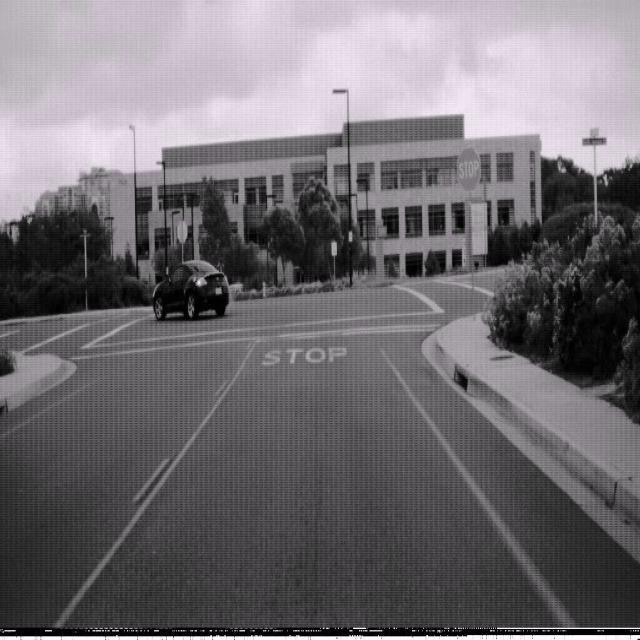stop_sign: (456, 144, 482, 193)
